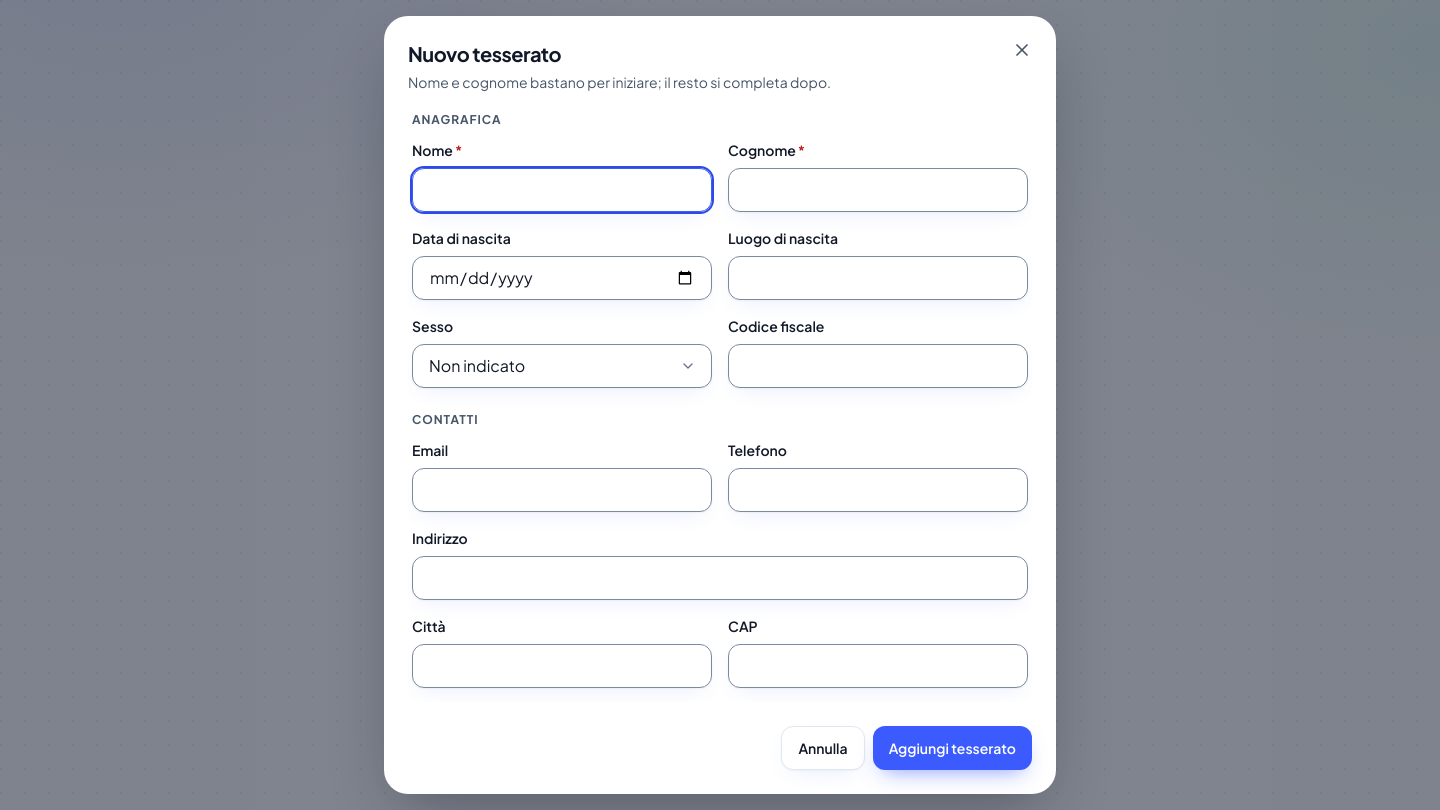
Test: MemberFormDialog (create) › asks for the missing name before sending anything
The width and height of the screenshot is (1440, 810).
Click the button "Aggiungi tesserato" at (952, 748), box x1=873 y1=726 x2=1032 y2=770
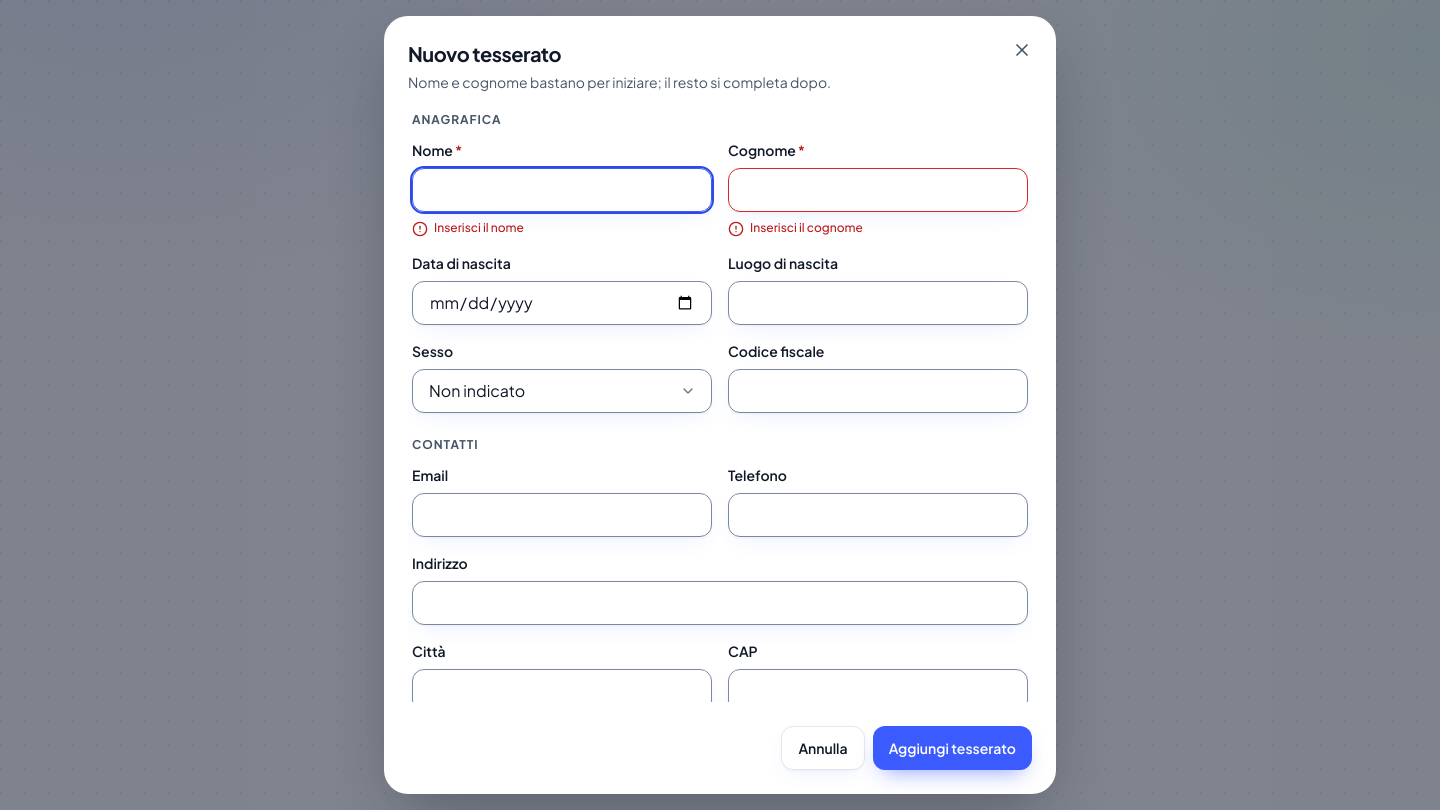
Now the text "Inserisci il nome" is shown, box x1=434 y1=220 x2=524 y2=236
Now the text "Inserisci il cognome" is shown, box x1=750 y1=220 x2=863 y2=236
